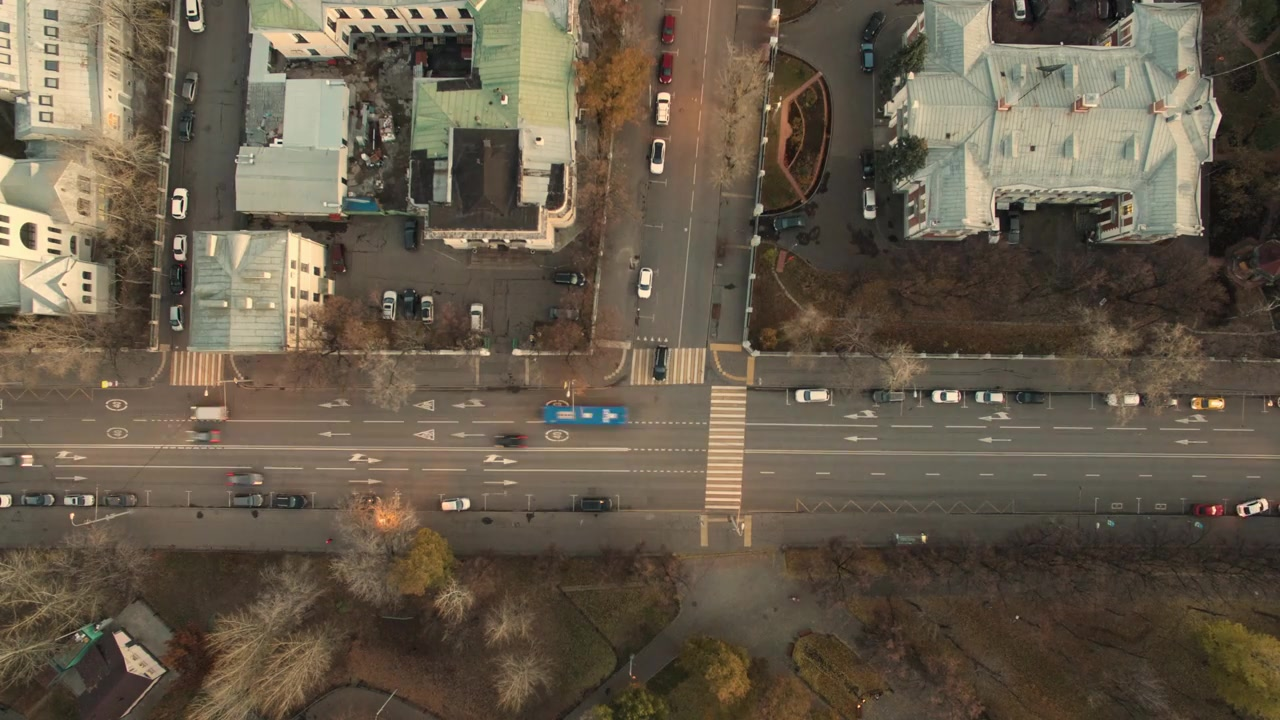car: (540, 404, 631, 427), (184, 1, 208, 36), (1237, 496, 1270, 521), (188, 404, 229, 424), (862, 10, 888, 40), (648, 137, 667, 178), (327, 240, 348, 275), (652, 344, 670, 384), (1190, 501, 1227, 520), (654, 89, 672, 128), (658, 12, 678, 47), (170, 187, 190, 222), (177, 109, 197, 144), (1004, 212, 1023, 248), (181, 70, 200, 106), (656, 52, 676, 86), (794, 387, 831, 405), (871, 388, 907, 406), (635, 266, 654, 300), (576, 495, 614, 512), (1190, 396, 1228, 413), (167, 263, 186, 297), (225, 471, 265, 487), (973, 389, 1008, 407), (187, 428, 222, 446), (274, 492, 309, 510), (19, 491, 56, 508), (551, 270, 587, 287), (440, 495, 472, 514), (102, 492, 140, 508), (167, 303, 187, 333), (858, 42, 876, 75), (930, 387, 963, 405), (861, 186, 878, 220), (380, 288, 397, 322), (492, 433, 528, 449), (772, 214, 805, 231), (401, 288, 418, 321), (1105, 392, 1140, 408), (230, 492, 265, 508), (469, 301, 485, 334), (403, 220, 419, 253), (1015, 390, 1047, 406), (172, 232, 189, 262), (62, 493, 96, 508), (420, 295, 436, 325), (1, 453, 24, 470), (1012, 1, 1028, 22)
